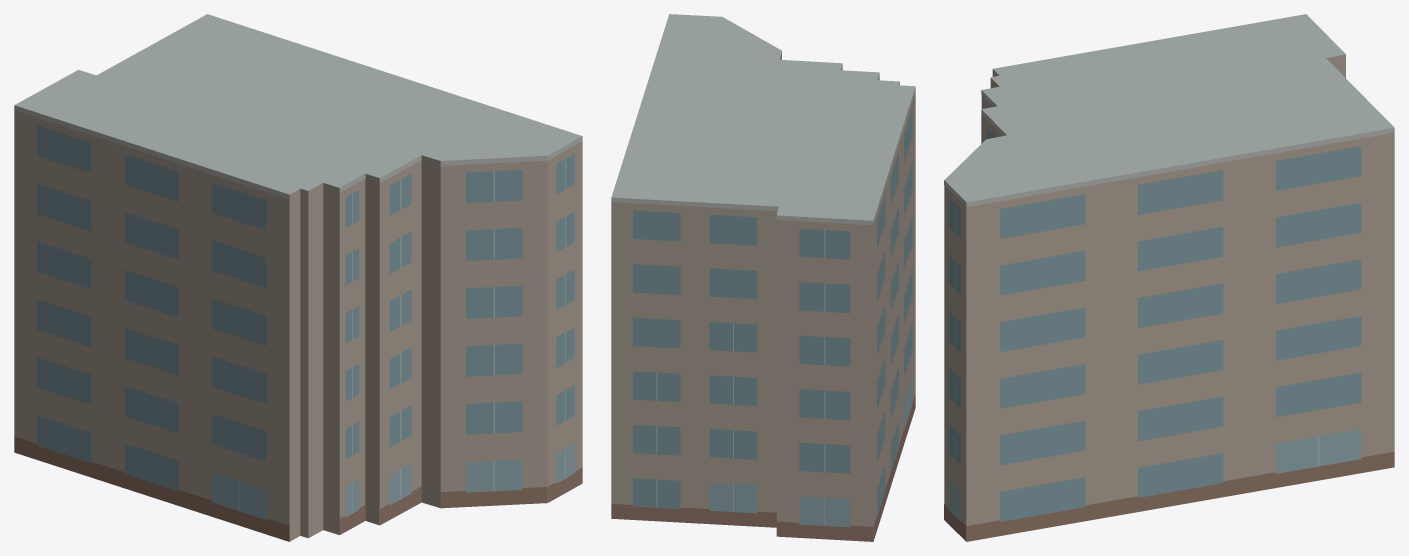
The model's file is survey-upis-32777318.glb.
3 renders of one model, left to right at view 1: azimuth 30°, elevation 25°; view 2: azimuth 150°, elevation 25°; view 3: azimuth 270°, elevation 25°, orthographic. The views are drawn at different scales.
Parts seen in each view (by area): view 1: survey-upis-32777318.tmp; view 2: survey-upis-32777318.tmp; view 3: survey-upis-32777318.tmp.
Part boxes in pixels (bbox=[...]): survey-upis-32777318.tmp: bbox=[14, 14, 582, 541]; survey-upis-32777318.tmp: bbox=[611, 14, 915, 541]; survey-upis-32777318.tmp: bbox=[944, 14, 1394, 541].
Bounding box in the file's own units: 20.22 × 17 × 20.45.
